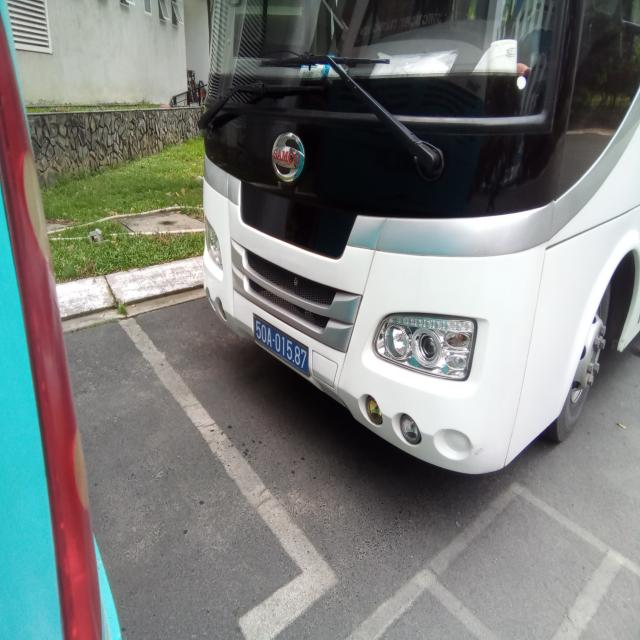bien_xanh: (250, 316, 310, 378)
